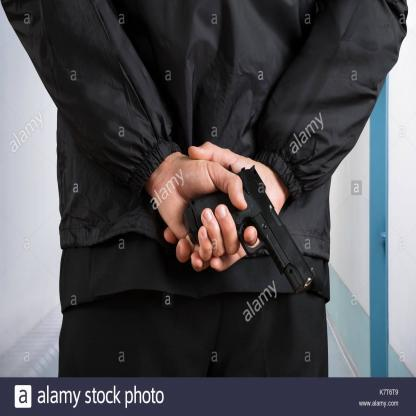gun: (185, 139, 325, 305)
